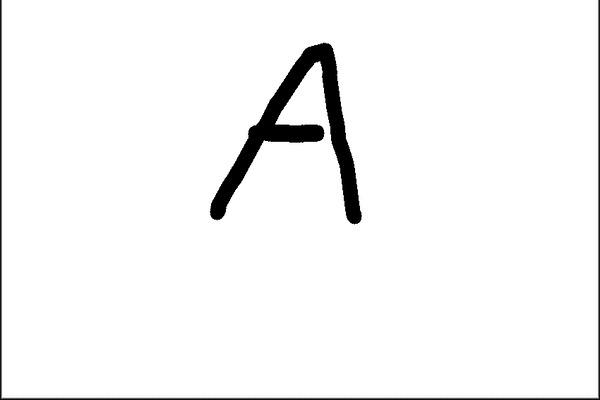A: (204, 34, 370, 231)
